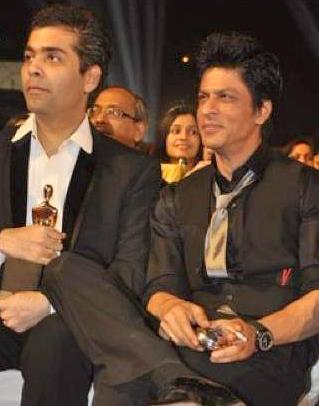cigarette: (222, 320, 251, 347)
